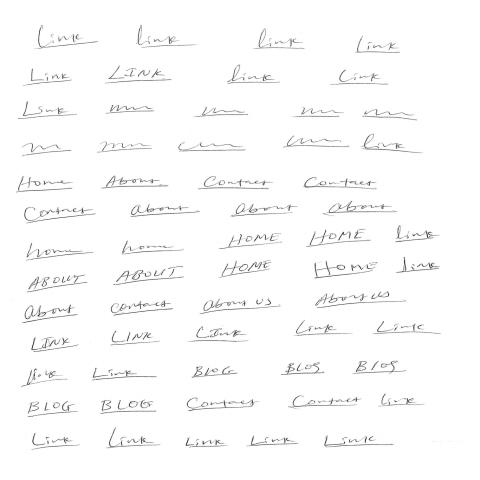Link: (34, 25, 100, 51), (115, 264, 186, 286), (200, 297, 282, 316), (135, 26, 198, 50), (315, 291, 399, 309), (23, 206, 97, 226), (105, 65, 174, 86), (26, 242, 95, 262), (104, 427, 163, 450), (305, 229, 373, 248), (218, 232, 284, 251), (314, 261, 380, 280), (25, 275, 89, 294), (226, 64, 282, 85), (23, 304, 79, 325), (18, 102, 79, 121), (253, 29, 308, 50), (182, 397, 260, 411), (199, 177, 275, 191), (16, 176, 75, 194), (329, 69, 391, 86), (304, 177, 379, 191), (323, 201, 398, 215), (231, 204, 301, 219), (218, 260, 273, 279), (110, 299, 171, 316), (287, 395, 360, 409), (23, 401, 76, 420), (100, 176, 170, 190), (23, 69, 74, 88), (360, 135, 408, 155), (108, 330, 163, 347), (191, 327, 246, 344), (131, 204, 197, 218), (30, 433, 81, 451), (291, 320, 344, 337), (121, 241, 181, 256), (394, 225, 441, 244), (100, 399, 158, 414), (30, 337, 81, 354), (355, 36, 403, 54), (371, 321, 432, 335), (22, 369, 66, 388), (395, 257, 442, 274), (91, 368, 150, 381), (325, 436, 382, 449), (354, 360, 403, 375), (191, 365, 239, 380), (247, 435, 302, 448), (292, 107, 347, 119), (281, 362, 324, 377), (377, 394, 422, 408), (192, 107, 249, 118), (181, 437, 229, 450), (104, 105, 157, 116)
